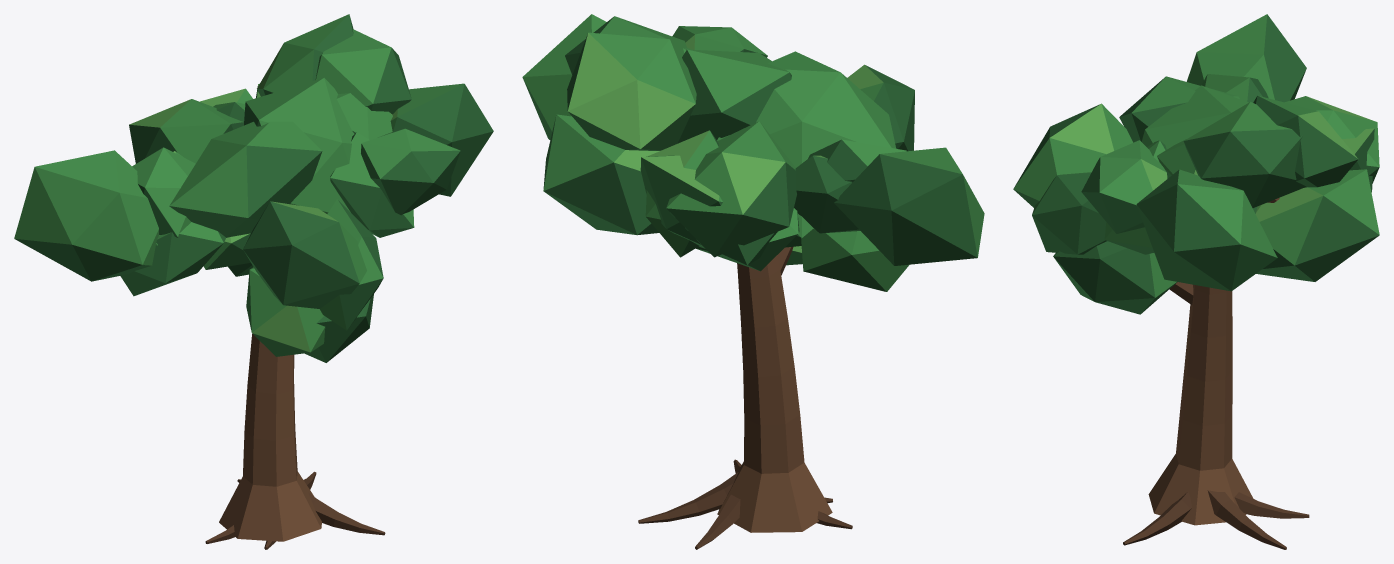
The model's file is tree_broadleaf_03.glb.
3 renders of one model, left to right at view 1: azimuth 30°, elevation 25°; view 2: azimuth 150°, elevation 25°; view 3: azimuth 270°, elevation 25°, orthographic. The views are drawn at different scales.
Visible parts, largest first — view 1: tree_broadleaf_03; view 2: tree_broadleaf_03; view 3: tree_broadleaf_03.
Boxes of the visible parts, x1,y1,x2,y2 form: tree_broadleaf_03: [14, 14, 493, 549]; tree_broadleaf_03: [522, 14, 984, 549]; tree_broadleaf_03: [1013, 14, 1379, 549].
Bounding box in the file's own units: 5.57 × 5.47 × 3.99.
